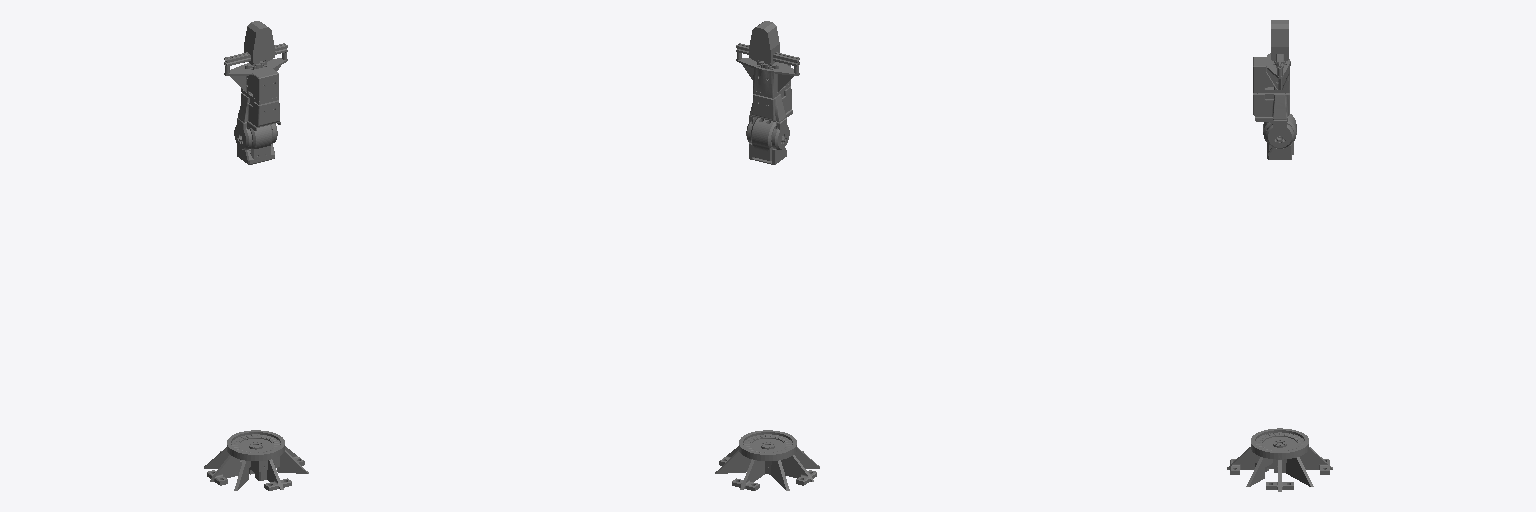
URDF robot description (open_manipulator):
<?xml version="1.0" ?>
<!-- =================================================================================== -->
<!-- |    This document was autogenerated by xacro from open_manipulator_description.urdf.xacro | -->
<!-- |    EDITING THIS FILE BY HAND IS NOT RECOMMENDED                                 | -->
<!-- =================================================================================== -->
<!-- Open_Manipulator Chain -->
<robot name="open_manipulator" xmlns:xacro="http://www.ros.org/wiki/xacro">
  <!-- World -->
  <gazebo reference="world">
  </gazebo>
  <!-- Base Link -->
  <gazebo reference="base_link">
    <kp>1000000.0</kp>
    <kd>100.0</kd>
    <mu1>30.0</mu1>
    <mu2>30.0</mu2>
    <maxVel>1.0</maxVel>
    <minDepth>0.001</minDepth>
    <material>Gazebo/DarkGrey</material>
  </gazebo>
  <!-- Link1 -->
  <gazebo reference="link1">
    <kp>1000000.0</kp>
    <kd>100.0</kd>
    <mu1>30.0</mu1>
    <mu2>30.0</mu2>
    <maxVel>1.0</maxVel>
    <minDepth>0.001</minDepth>
    <material>Gazebo/DarkGrey</material>
  </gazebo>
  <!-- Link2 -->
  <gazebo reference="link2">
    <kp>1000000.0</kp>
    <kd>100.0</kd>
    <mu1>30.0</mu1>
    <mu2>30.0</mu2>
    <maxVel>1.0</maxVel>
    <minDepth>0.001</minDepth>
    <material>Gazebo/DarkGrey</material>
  </gazebo>
  <!-- Link3 -->
  <gazebo reference="link3">
    <kp>1000000.0</kp>
    <kd>100.0</kd>
    <mu1>30.0</mu1>
    <mu2>30.0</mu2>
    <maxVel>1.0</maxVel>
    <minDepth>0.001</minDepth>
    <material>Gazebo/DarkGrey</material>
  </gazebo>
  <!-- Link4 -->
  <gazebo reference="link4">
    <kp>1000000.0</kp>
    <kd>100.0</kd>
    <mu1>30.0</mu1>
    <mu2>30.0</mu2>
    <maxVel>1.0</maxVel>
    <minDepth>0.001</minDepth>
    <material>Gazebo/DarkGrey</material>
  </gazebo>
  <!-- Link5 -->
  <gazebo reference="link5">
    <kp>1000000.0</kp>
    <kd>100.0</kd>
    <mu1>30.0</mu1>
    <mu2>30.0</mu2>
    <maxVel>1.0</maxVel>
    <minDepth>0.001</minDepth>
    <material>Gazebo/DarkGrey</material>
  </gazebo>
  <!-- Link6 -->
  <gazebo reference="link6">
    <kp>1000000.0</kp>
    <kd>100.0</kd>
    <mu1>30.0</mu1>
    <mu2>30.0</mu2>
    <maxVel>1.0</maxVel>
    <minDepth>0.001</minDepth>
    <material>Gazebo/DarkGrey</material>
  </gazebo>
  <!-- Link7 -->
  <gazebo reference="link7">
    <kp>1000000.0</kp>
    <kd>100.0</kd>
    <mu1>30.0</mu1>
    <mu2>30.0</mu2>
    <maxVel>1.0</maxVel>
    <minDepth>0.001</minDepth>
    <material>Gazebo/DarkGrey</material>
  </gazebo>
  <!-- grip_link -->
  <gazebo reference="grip_link">
    <kp>1000000.0</kp>
    <kd>100.0</kd>
    <mu1>30.0</mu1>
    <mu2>30.0</mu2>
    <maxVel>1.0</maxVel>
    <minDepth>0.001</minDepth>
    <material>Gazebo/DarkGrey</material>
  </gazebo>
  <!-- ros_control plugin -->
  <gazebo>
    <plugin filename="libgazebo_ros_control.so" name="gazebo_ros_control">
      <robotNamespace>/open_manipulator</robotNamespace>
      <controlPeriod>0.001</controlPeriod>
      <robotSimType>gazebo_ros_control/DefaultRobotHWSim</robotSimType>
    </plugin>
  </gazebo>
  <material name="black">
    <color rgba="0.0 0.0 0.0 1.0"/>
  </material>
  <material name="white">
    <color rgba="1.0 1.0 1.0 1.0"/>
  </material>
  <material name="red">
    <color rgba="0.8 0.0 0.0 1.0"/>
  </material>
  <material name="blue">
    <color rgba="0.0 0.0 0.8 1.0"/>
  </material>
  <material name="green">
    <color rgba="0.0 0.8 0.0 1.0"/>
  </material>
  <material name="grey">
    <color rgba="0.5 0.5 0.5 1.0"/>
  </material>
  <material name="orange">
    <color rgba="1.0 0.423529411765 0.0392156862745 1.0"/>
  </material>
  <material name="brown">
    <color rgba="0.870588235294 0.811764705882 0.764705882353 1.0"/>
  </material>
  <!-- World -->
  <link name="world">
   </link>
  <!-- World fixed joint -->
  <joint name="world_fixed" type="fixed">
    <parent link="world"/>
    <child link="base_link"/>
  </joint>
  <!-- Base Link -->
  <link name="base_link">
    <inertial>
      <mass value="0.2331188062"/>
      <origin xyz="-2.548e-05 -0.00495518 0.02321769"/>
      <inertia ixx="0.0001796" ixy="6e-08" ixz="5e-08" iyy="0.00017198" iyz="1.93e-06" izz="0.00027331"/>
    </inertial>
    <visual>
      <geometry>
        <mesh filename="package://open_manipulator_description/meshes/base_link.dae"/>
      </geometry>
      <material name="grey"/>
    </visual>
    <collision>
      <geometry>
        <mesh filename="package://open_manipulator_description/meshes/base_link.dae"/>
      </geometry>
    </collision>
  </link>
  <!-- Link 1 -->
  <link name="link1">
    <visual>
      <geometry>
        <mesh filename="package://open_manipulator_description/meshes/link1.dae"/>
      </geometry>
      <material name="grey"/>
    </visual>
    <collision>
      <geometry>
        <mesh filename="package://open_manipulator_description/meshes/link1.dae"/>
      </geometry>
    </collision>
    <inertial>
      <mass value="0.2148954"/>
      <origin xyz="0.00209897 -3.145e-05 0.03141"/>
      <inertia ixx="0.0001072" ixy="0" ixz="2.16e-06" iyy="0.00012565" iyz="-3e-08" izz="6.775e-05"/>
    </inertial>
  </link>
  <!-- Joint 1 -->
  <joint name="id_1" type="revolute">
    <parent link="base_link"/>
    <child link="link1"/>
    <origin xyz="0 0 0.0405"/>
    <axis xyz="0 0 1"/>
    <limit effort="3.1" lower="-3.14159265359" upper="3.14159265359" velocity="2.8"/>
  </joint>
  <!-- Transmission 1 -->
  <transmission name="tran1">
    <type>transmission_interface/SimpleTransmission</type>
    <joint name="id_1">
      <hardwareInterface>hardware_interface/EffortJointInterface</hardwareInterface>
    </joint>
    <actuator name="motor1">
      <hardwareInterface>hardware_interface/EffortJointInterface</hardwareInterface>
      <mechanicalReduction>1</mechanicalReduction>
    </actuator>
  </transmission>
  <!--  Link 2-->
  <link name="link2">
    <visual>
      <geometry>
        <mesh filename="package://open_manipulator_description/meshes/link2.dae"/>
      </geometry>
      <material name="grey"/>
    </visual>
    <collision>
      <geometry>
        <mesh filename="package://open_manipulator_description/meshes/link2.dae"/>
      </geometry>
    </collision>
    <inertial>
      <mass value="0.3501961"/>
      <origin xyz="0.00134144 -3.013e-05 0.13471054"/>
      <inertia ixx="0.00136041" ixy="1.4e-07" ixz="1.848e-08" iyy="0.00140065" iyz="-9.8e-07" izz="0.00012542"/>
    </inertial>
  </link>
  <!--  Joint 2 -->
  <joint name="id_2" type="revolute">
    <parent link="link1"/>
    <child link="link2"/>
    <origin xyz="0 0 0.056"/>
    <axis xyz="1 0 0"/>
    <limit effort="9.9" lower="-1.92" upper="1.83" velocity="2.9"/>
  </joint>
  <!-- Transmission 2 -->
  <transmission name="tran2">
    <type>transmission_interface/SimpleTransmission</type>
    <joint name="id_2">
      <hardwareInterface>hardware_interface/EffortJointInterface</hardwareInterface>
    </joint>
    <actuator name="motor2">
      <hardwareInterface>hardware_interface/EffortJointInterface</hardwareInterface>
      <mechanicalReduction>1</mechanicalReduction>
    </actuator>
  </transmission>
  <!--  Link 3 -->
  <link name="link3">
    <visual>
      <geometry>
        <mesh filename="package://open_manipulator_description/meshes/link3.dae"/>
      </geometry>
      <material name="grey"/>
    </visual>
    <collision>
      <geometry>
        <mesh filename="package://open_manipulator_description/meshes/link3.dae"/>
      </geometry>
    </collision>
    <inertial>
      <mass value="0.20522109"/>
      <origin xyz="-1.698e-05 0.00399677 0.12984563"/>
      <inertia ixx="0.00084745" ixy="4e-08" ixz="-1.7e-07" iyy="0.00083862" iyz="-9.387e-05" izz="9.478e-05"/>
    </inertial>
  </link>
  <!--  Joint 3 -->
  <joint name="id_3" type="revolute">
    <parent link="link2"/>
    <child link="link3"/>
    <origin xyz="0 0 .1935"/>
    <axis xyz="1 0 0"/>
    <limit effort="9.9" lower="-2.33" upper="2.36" velocity="2.9"/>
  </joint>
  <!-- Transmission 3 -->
  <transmission name="tran3">
    <type>transmission_interface/SimpleTransmission</type>
    <joint name="id_3">
      <hardwareInterface>hardware_interface/EffortJointInterface</hardwareInterface>
    </joint>
    <actuator name="motor3">
      <hardwareInterface>hardware_interface/EffortJointInterface</hardwareInterface>
      <mechanicalReduction>1</mechanicalReduction>
    </actuator>
  </transmission>
  <!--  Link 4 -->
  <link name="link4">
    <visual>
      <geometry>
        <mesh filename="package://open_manipulator_description/meshes/link4.dae"/>
      </geometry>
      <material name="grey"/>
    </visual>
    <collision>
      <geometry>
        <mesh filename="package://open_manipulator_description/meshes/link4.dae"/>
      </geometry>
    </collision>
    <inertial>
      <mass value="0.11378884"/>
      <origin xyz="-0.00164387 3.504e-05 0.02301193"/>
      <inertia ixx="4.08e-05" ixy="1e-08" ixz="4.4e-07" iyy="4.422e-05" iyz="1.3e-07" izz="2.465e-05"/>
    </inertial>
  </link>
  <!--  Joint 4-->
  <joint name="id_4" type="revolute">
    <parent link="link3"/>
    <child link="link4"/>
    <origin xyz="0 0 0.201"/>
    <axis xyz="0 0 1"/>
    <limit effort="3.1" lower="-3.14159265359" upper="3.14159265359" velocity="2.8"/>
  </joint>
  <!-- Transmission 4 -->
  <transmission name="tran4">
    <type>transmission_interface/SimpleTransmission</type>
    <joint name="id_4">
      <hardwareInterface>hardware_interface/EffortJointInterface</hardwareInterface>
    </joint>
    <actuator name="motor4">
      <hardwareInterface>hardware_interface/EffortJointInterface</hardwareInterface>
      <mechanicalReduction>1</mechanicalReduction>
    </actuator>
  </transmission>
  <!--  Link 5 -->
  <link name="link5">
    <visual>
      <geometry>
        <mesh filename="package://open_manipulator_description/meshes/link5.dae"/>
      </geometry>
      <material name="grey"/>
    </visual>
    <collision>
      <geometry>
        <mesh filename="package://open_manipulator_description/meshes/link5.dae"/>
      </geometry>
    </collision>
    <inertial>
      <mass value="0.12222061"/>
      <origin xyz="-2.083e-05 -0.01576432 0.03777592"/>
      <inertia ixx="6.096e-05" ixy="1e-08" ixz="-1e-08" iyy="4.934e-05" iyz="-8.17e-06" izz="4.684e-05"/>
    </inertial>
  </link>
  <!--  Joint 5-->
  <joint name="id_5" type="revolute">
    <parent link="link4"/>
    <child link="link5"/>
    <origin xyz="0 0 0.0405"/>
    <axis xyz="1 0 0"/>
    <limit effort="3.1" lower="-2.0" upper="1.69" velocity="2.8"/>
  </joint>
  <!-- Transmission 5 -->
  <transmission name="tran5">
    <type>transmission_interface/SimpleTransmission</type>
    <joint name="id_5">
      <hardwareInterface>hardware_interface/EffortJointInterface</hardwareInterface>
    </joint>
    <actuator name="motor5">
      <hardwareInterface>hardware_interface/EffortJointInterface</hardwareInterface>
      <mechanicalReduction>1</mechanicalReduction>
    </actuator>
  </transmission>
  <!--  Link 6 -->
  <link name="link6">
    <inertial>
      <mass value="0.12977859"/>
      <origin xyz="-2.637e-05 -0.01554872 0.02453859"/>
      <inertia ixx="6.317e-05" ixy="1e-08" ixz="2e-08" iyy="6.152e-05" iyz="9.09e-06" izz="5.762e-05"/>
    </inertial>
    <visual>
      <geometry>
        <mesh filename="package://open_manipulator_description/meshes/link6.dae"/>
      </geometry>
      <material name="grey"/>
    </visual>
    <collision>
      <geometry>
        <mesh filename="package://open_manipulator_description/meshes/link6.dae"/>
      </geometry>
    </collision>
  </link>
  <!--  Joint 6 -->
  <joint name="id_6" type="revolute">
    <origin xyz="0 0 0.064"/>
    <parent link="link5"/>
    <child link="link6"/>
    <axis xyz="0 0 1"/>
    <limit effort="3.1" lower="-3.14159265359" upper="3.14159265359" velocity="2.8"/>
  </joint>
  <!-- Transmission 6 -->
  <transmission name="tran6">
    <type>transmission_interface/SimpleTransmission</type>
    <joint name="id_6">
      <hardwareInterface>hardware_interface/EffortJointInterface</hardwareInterface>
    </joint>
    <actuator name="motor6">
      <hardwareInterface>hardware_interface/EffortJointInterface</hardwareInterface>
      <mechanicalReduction>1</mechanicalReduction>
    </actuator>
  </transmission>
  <!-- Link 7-->
  <link name="link7">
    <inertial>
      <mass value="0.00482"/>
      <origin xyz="-2.637e-05 -0.01554872 0.02453859"/>
      <inertia ixx="3.65e-07" ixy="1.58e-07" ixz="7.033e-08" iyy="4.71e-07" iyz="5e-08" izz="7.51e-07"/>
    </inertial>
    <visual>
      <geometry>
        <mesh filename="package://open_manipulator_description/meshes/link7.dae"/>
      </geometry>
      <material name="grey"/>
    </visual>
    <collision>
      <geometry>
        <mesh filename="package://open_manipulator_description/meshes/link7.dae"/>
      </geometry>
    </collision>
  </link>
  <!-- Joint 7 -->
  <joint name="id_7" type="revolute">
    <origin xyz="0 0 0.039"/>
    <parent link="link6"/>
    <child link="link7"/>
    <axis xyz="0 0 1"/>
    <limit effort="3.1" lower="-3.14159265359" upper="3.14159265359" velocity="2.8"/>
  </joint>
  <!-- Transmission 7 -->
  <transmission name="tran7">
    <type>transmission_interface/SimpleTransmission</type>
    <joint name="id_7">
      <hardwareInterface>hardware_interface/EffortJointInterface</hardwareInterface>
    </joint>
    <actuator name="motor7">
      <hardwareInterface>hardware_interface/EffortJointInterface</hardwareInterface>
      <mechanicalReduction>1</mechanicalReduction>
    </actuator>
  </transmission>
  <!--  Gripper Left-->
  <link name="gripper_l">
    <inertial>
      <mass value="0.01838602"/>
      <origin xyz="0.00300341 0 0.0187682"/>
      <inertia ixx="4.9e-06" ixy="0" ixz="3.2e-07" iyy="4.35e-06" iyz="0" izz="1.54e-06"/>
    </inertial>
    <visual>
      <geometry>
        <mesh filename="package://open_manipulator_description/meshes/gripper.dae"/>
      </geometry>
      <material name="grey"/>
    </visual>
    <collision>
      <geometry>
        <mesh filename="package://open_manipulator_description/meshes/gripper.dae"/>
      </geometry>
    </collision>
  </link>
  <!--Gripper Left Joint -->
  <joint name="joint8" type="prismatic">
    <origin rpy="0 0 3.14159265359" xyz="-0.015 0 0.0595"/>
    <parent link="link6"/>
    <child link="gripper_l"/>
    <axis xyz="1 0 0"/>
    <limit effort=".1" lower="-.033" upper="0" velocity="0.1"/>
    <mimic joint="id_7" multiplier="-0.01" offset="-0.0110133334"/>
  </joint>
  <!--  Gripper Right -->
  <link name="gripper_r">
    <inertial>
      <mass value="0.01838602"/>
      <origin xyz="-0.00300341 0 0.0187682"/>
      <inertia ixx="4.9e-06" ixy="0" ixz="3.2e-07" iyy="4.35e-06" iyz="0" izz="1.54e-06"/>
    </inertial>
    <visual>
      <geometry>
        <mesh filename="package://open_manipulator_description/meshes/gripper.dae"/>
      </geometry>
      <material name="grey"/>
    </visual>
    <collision>
      <geometry>
        <mesh filename="package://open_manipulator_description/meshes/gripper.dae"/>
      </geometry>
    </collision>
  </link>
  <!--Gripper Right Joint -->
  <joint name="joint9" type="prismatic">
    <origin xyz="0.015 0 0.0595"/>
    <parent link="link6"/>
    <child link="gripper_r"/>
    <axis xyz="1 0 0"/>
    <limit effort=".1" lower="0" upper=".033" velocity="0.1"/>
    <mimic joint="joint8" multiplier="1" offset="0"/>
  </joint>
</robot>

--- Render facts (derived) ---
Views: 3 orthographic renders of the robot side by side, from view 1: azimuth 30°, elevation 25°; view 2: azimuth 150°, elevation 25°; view 3: azimuth 270°, elevation 25°.
Robot: open_manipulator — 11 links, 10 joints (7 revolute, 2 prismatic, 1 fixed); root link world; default pose: every joint at zero.
Links seen in each view (by area): view 1: base_link, link6, link5, link4, gripper_l; view 2: base_link, link6, link5, link4, gripper_l; view 3: base_link, link5, link6, gripper_r, link4.
Boxes of the visible links, bbox=[...] form: base_link: bbox=[204, 430, 308, 490]; link6: bbox=[224, 43, 287, 104]; link5: bbox=[234, 93, 280, 149]; link4: bbox=[237, 125, 274, 164]; gripper_l: bbox=[244, 21, 265, 64]; base_link: bbox=[715, 430, 819, 490]; link6: bbox=[736, 43, 799, 98]; link5: bbox=[746, 86, 792, 149]; link4: bbox=[749, 118, 786, 164]; gripper_l: bbox=[758, 21, 779, 64]; base_link: bbox=[1227, 428, 1332, 491]; link5: bbox=[1253, 93, 1293, 148]; link6: bbox=[1253, 53, 1290, 92]; gripper_r: bbox=[1271, 23, 1288, 60]; link4: bbox=[1263, 114, 1296, 159].
Bounding box of the posed robot: 0.1513 × 0.1513 × 0.7011 m (x, y, z).
Meshes: 9 distinct files referenced, 7 mesh visuals loaded (6 Collada DAE); not drawn: 3 (reference not matched to a file when rendering).
